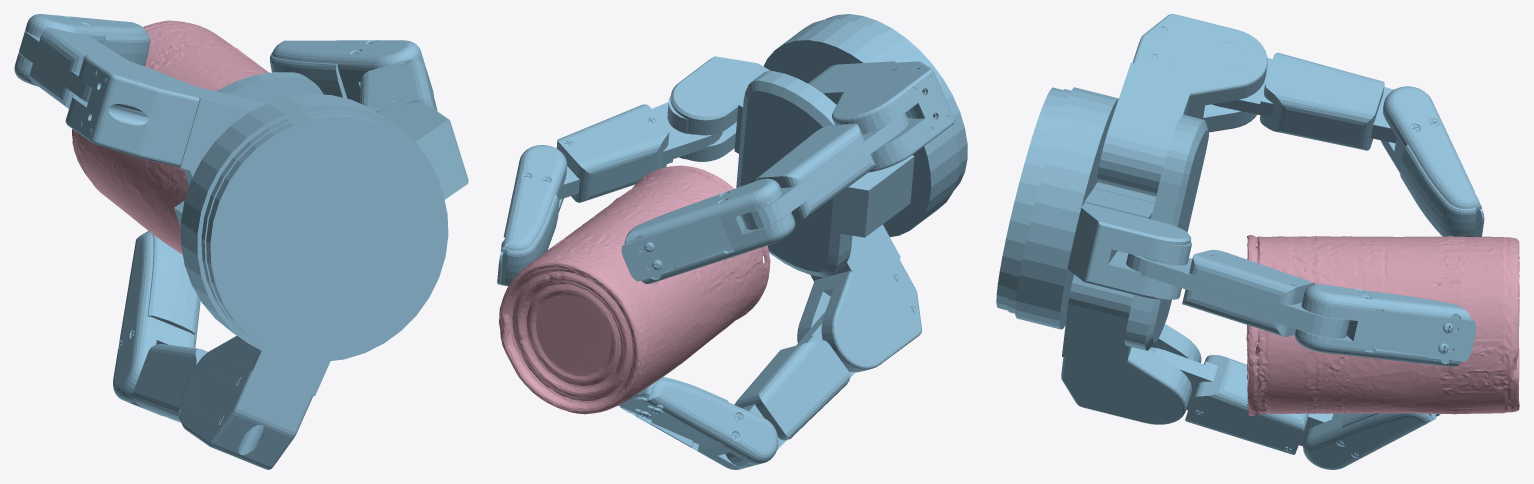
3 views of the same model, side by side, from view 1: azimuth 30°, elevation 25°; view 2: azimuth 150°, elevation 25°; view 3: azimuth 270°, elevation 25° (orthographic). The views are drawn at different scales.
Parts seen in each view (by area): view 1: world; view 2: world; view 3: world.
Part boxes in pixels (bbox=[...]): world: bbox=[14, 14, 468, 469]; world: bbox=[497, 14, 967, 469]; world: bbox=[996, 14, 1519, 469].
Bounding box in the file's own units: 0.1647 × 0.1623 × 0.1953.
